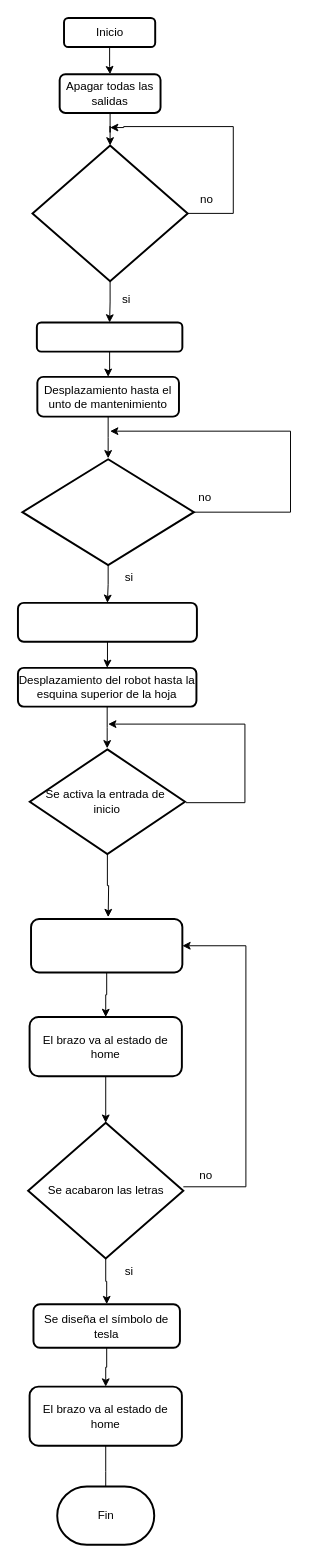
This 315x1562 diagram has some shape labels left out. Here are the shapes that lost their labels. From the top down, the centre of each, then its label:
At point 109,213: "Se activa la entrada de mantenimiento".
At point 109,336: "Se indica la activación del estado de mantenimietno".
At point 107,512: "Se activa la entrada de la posición de origen".
At point 106,621: "Se indica la activación del estado de posición original".
At point 106,945: "Se diseña el esquema de una letra".
